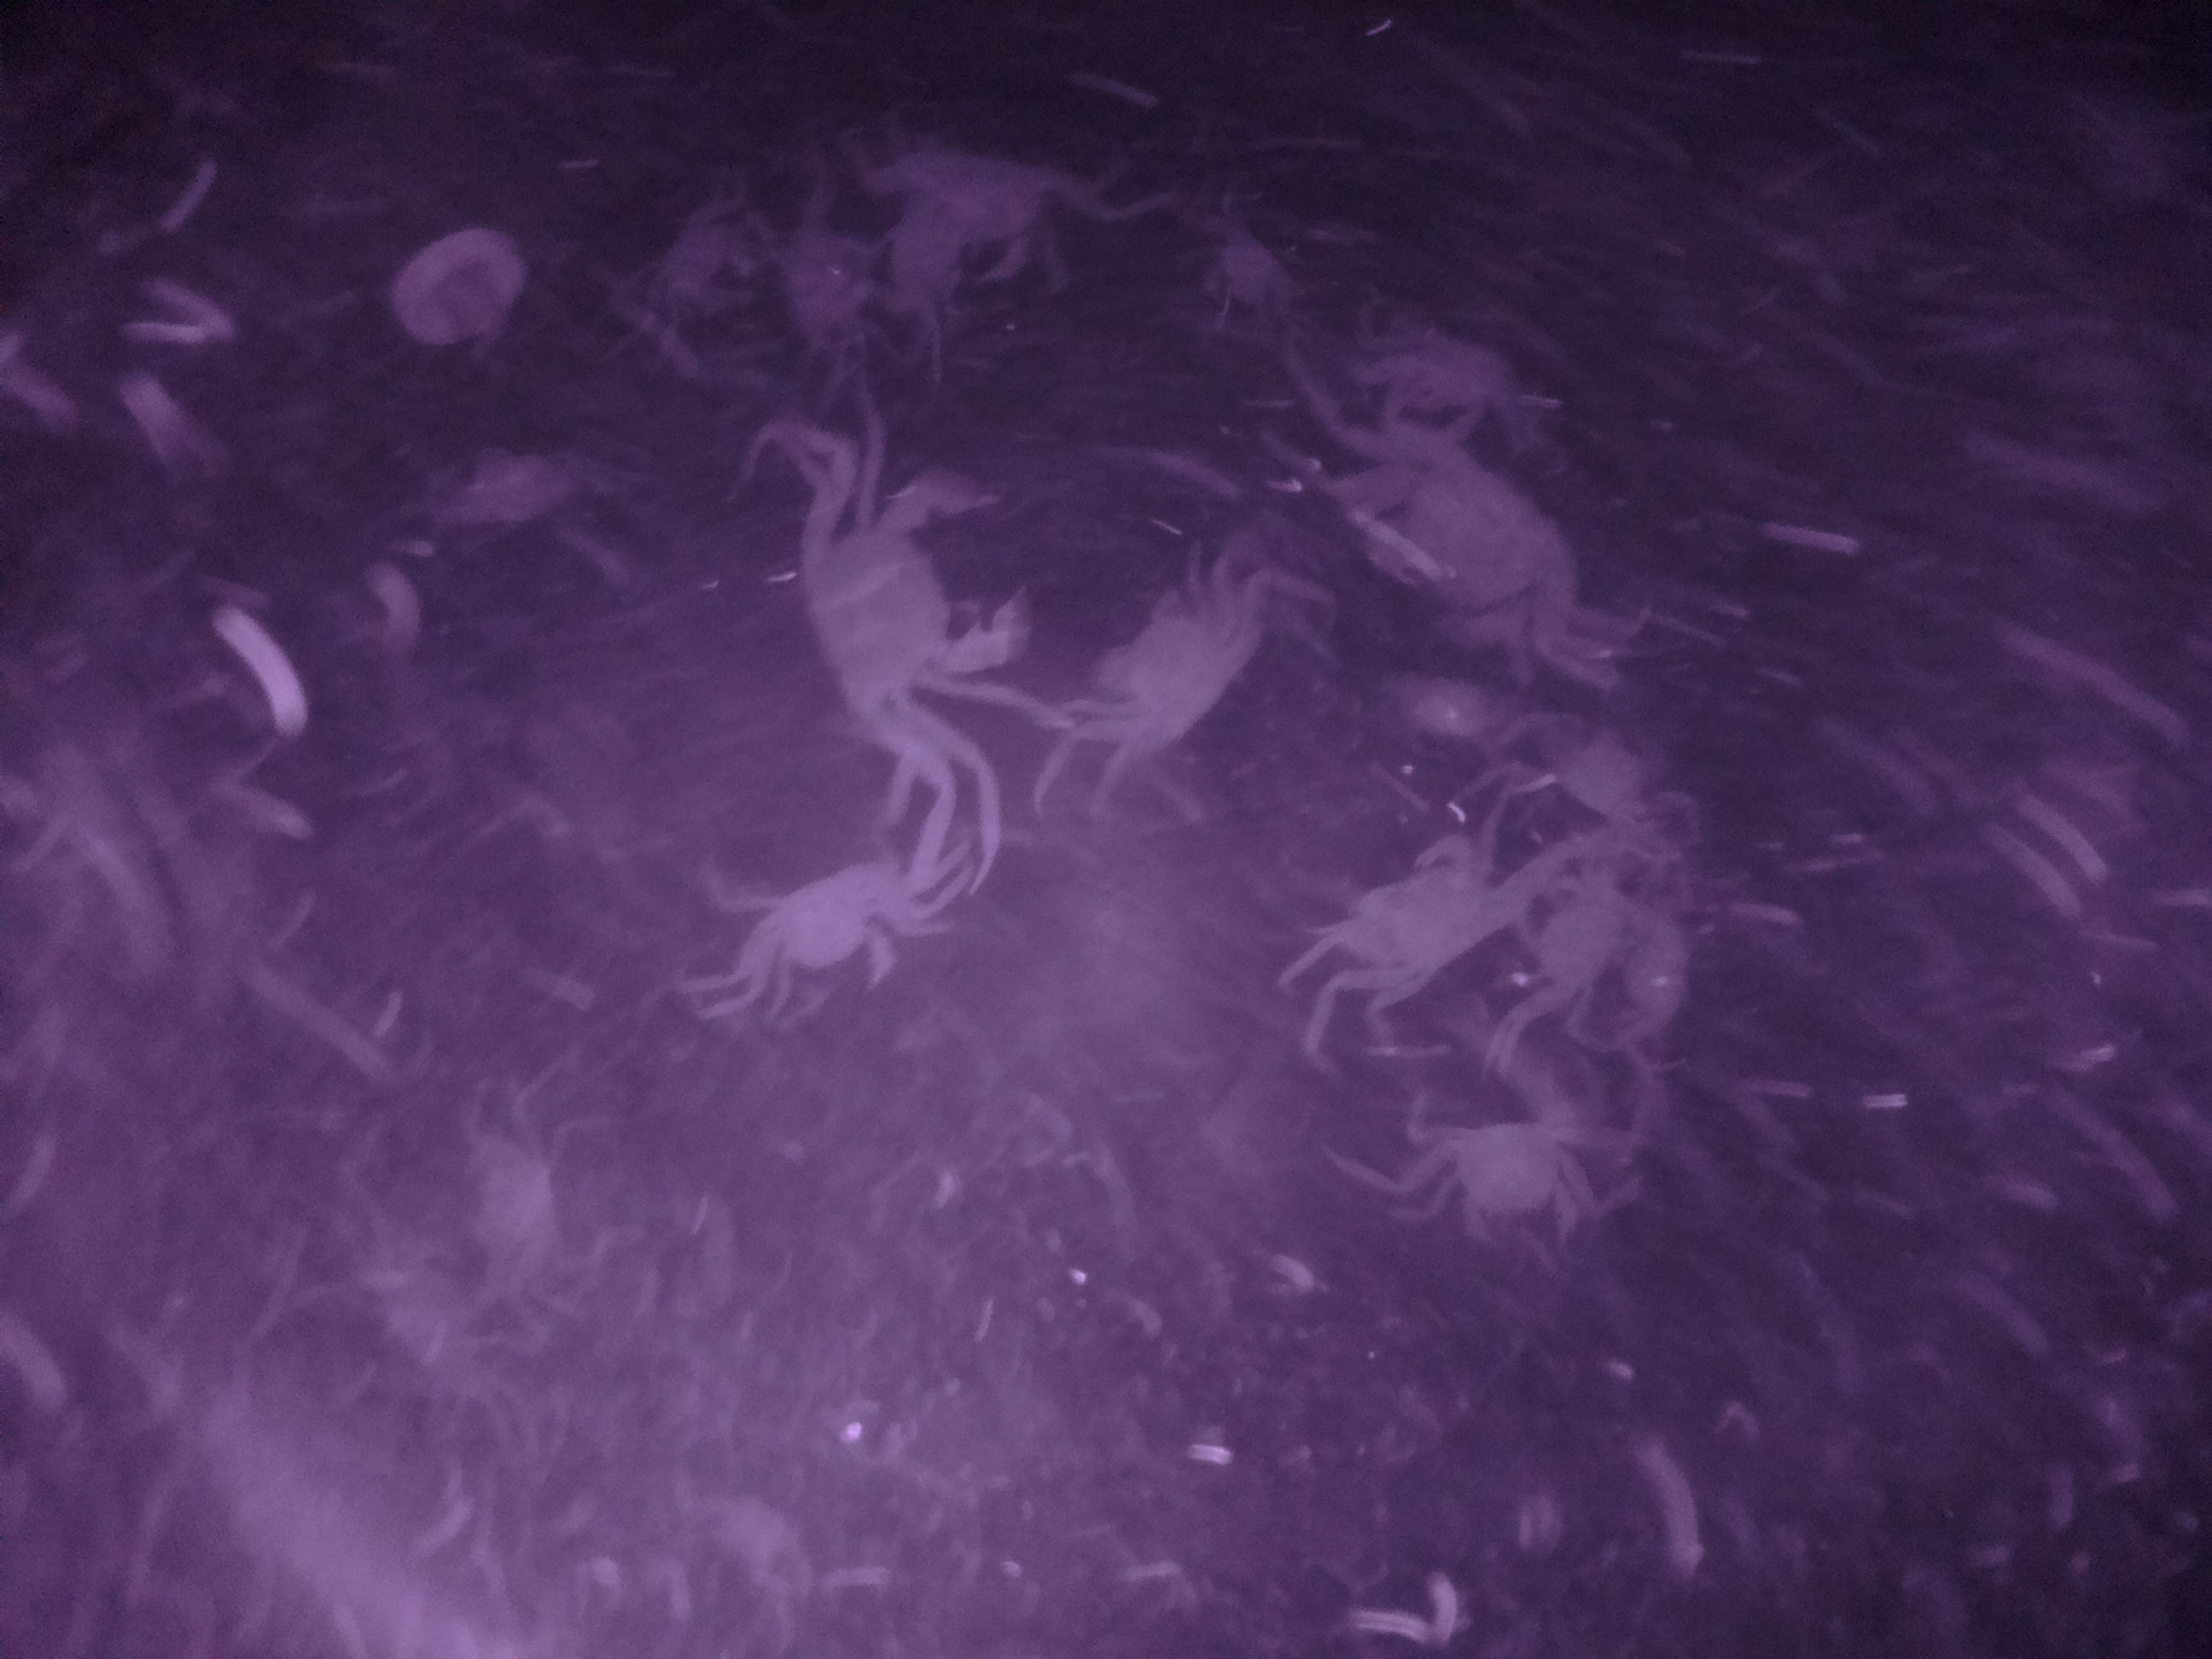Crab: (773, 458, 1036, 744), (1075, 577, 1252, 769), (1338, 814, 1508, 1012), (1425, 1107, 1604, 1267), (742, 850, 909, 1019)
